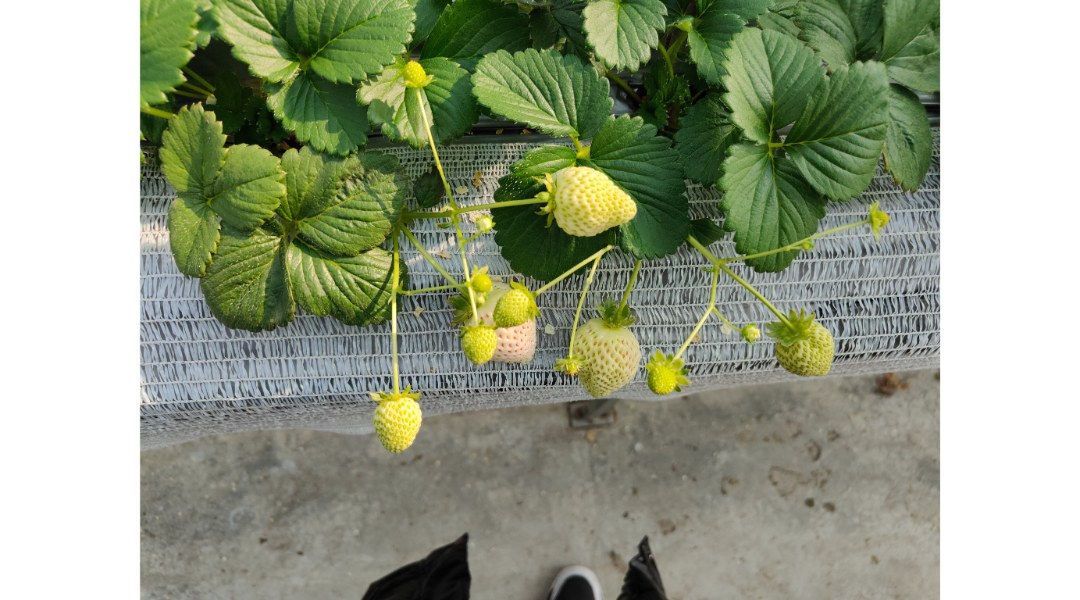berry: (530, 155, 652, 241), (568, 304, 642, 398), (463, 279, 538, 368), (362, 377, 431, 465), (763, 307, 836, 388), (452, 325, 505, 370), (647, 344, 684, 407), (852, 195, 896, 247), (494, 279, 535, 332), (550, 342, 589, 390), (396, 57, 435, 92), (471, 258, 497, 298)
strain: (733, 218, 843, 269), (413, 108, 464, 200), (464, 183, 545, 224), (382, 300, 413, 397), (408, 232, 454, 277), (671, 313, 715, 360), (542, 266, 584, 293)
